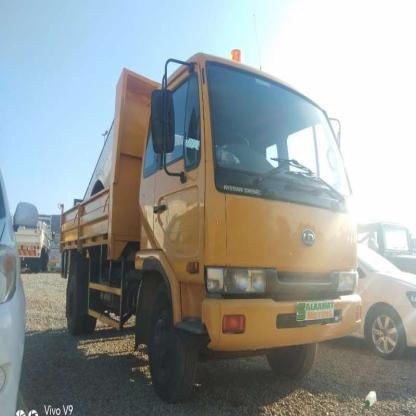dump_truck: (52, 49, 366, 396)
